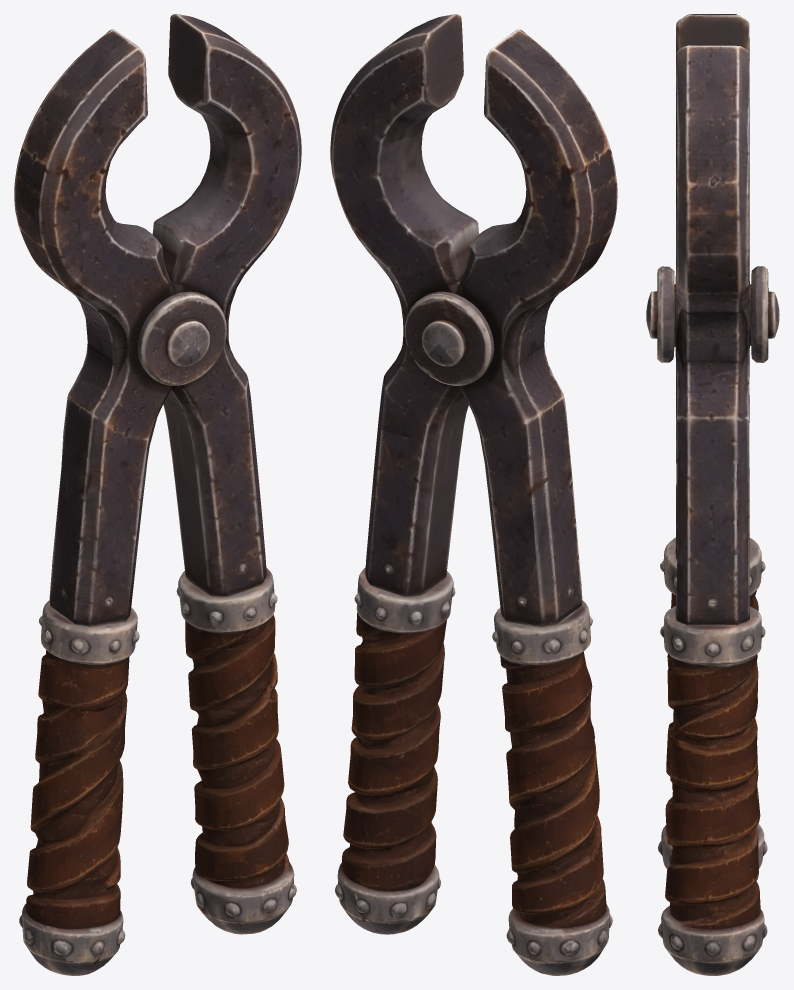
The model's file is tongs.glb.
The picture shows the model from 3 angles, left to right: view 1: azimuth 30°, elevation 25°; view 2: azimuth 150°, elevation 25°; view 3: azimuth 270°, elevation 25°; orthographic projection. The views are drawn at different scales.
Visible parts, largest first — view 1: Mesh_0; view 2: Mesh_0; view 3: Mesh_0.
Boxes of the visible parts, x1=… form: Mesh_0: x1=14, y1=14, x2=301, y2=975; Mesh_0: x1=330, y1=14, x2=617, y2=975; Mesh_0: x1=646, y1=14, x2=779, y2=975.
Size of the model in its own units: 0.5745 by 1.9 by 0.2553.
Materials: 1 (1 with a texture image).
